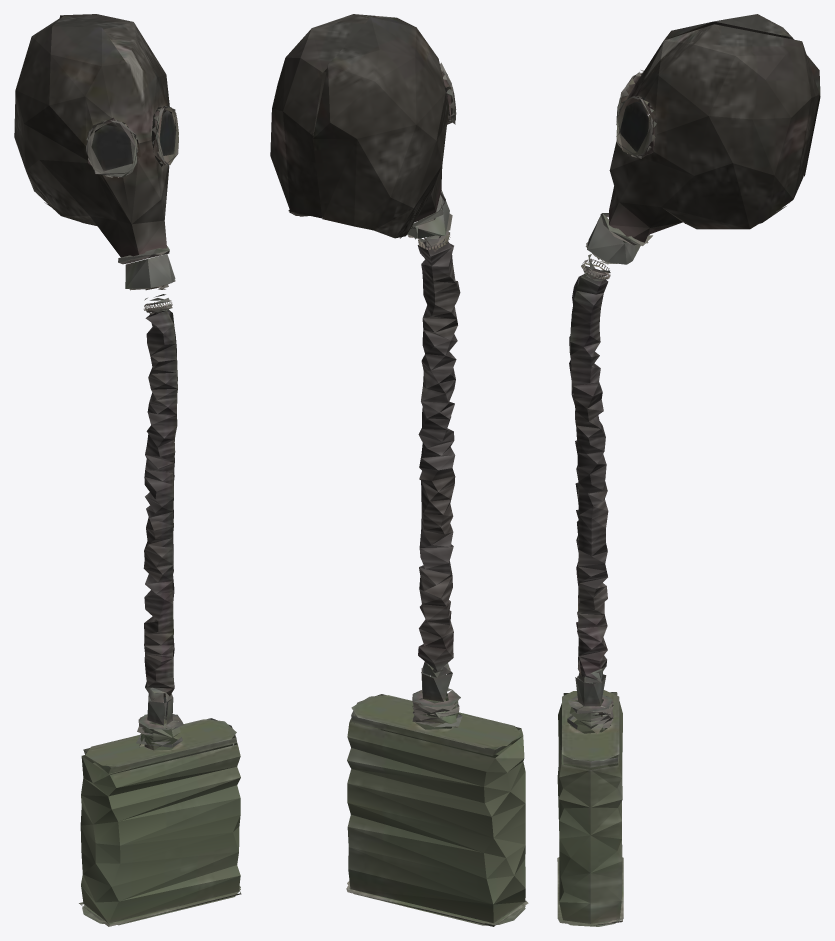
Rendered from old_gas_mask.glb.
3 views of the same model, side by side, from view 1: azimuth 30°, elevation 25°; view 2: azimuth 150°, elevation 25°; view 3: azimuth 270°, elevation 25° (orthographic). The views are drawn at different scales.
Visible parts, largest first — view 1: old_gas_mask; view 2: old_gas_mask; view 3: old_gas_mask.
Part boxes in pixels (<box>): old_gas_mask: <box>14,14,241,926</box>; old_gas_mask: <box>270,14,528,926</box>; old_gas_mask: <box>557,14,820,926</box>.
Size of the model in its own units: 0.21 by 1.13 by 0.3094.
Materials: 1 (1 with a texture image).
